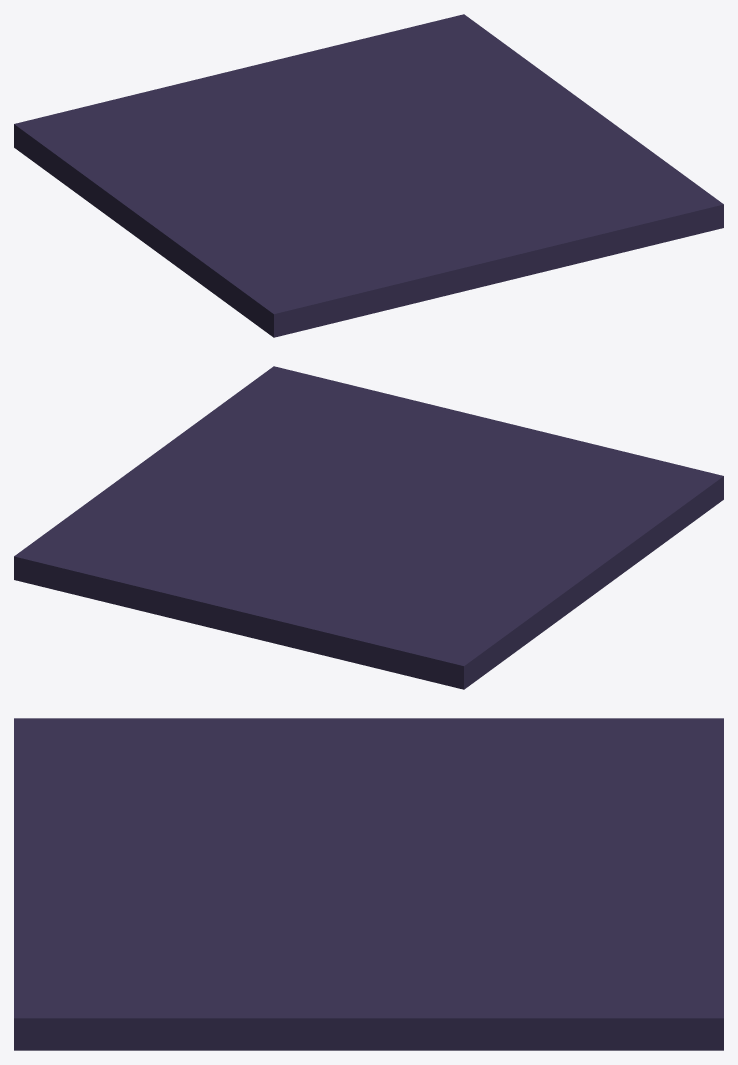
The model's file is Ceiling_Light_Square.fbx.
3 views of the same model, one above another, from view 1: azimuth 30°, elevation 25°; view 2: azimuth 150°, elevation 25°; view 3: azimuth 270°, elevation 25° (orthographic). The views are drawn at different scales.
Visible parts, largest first — view 1: Ceiling_Tile_Light; view 2: Ceiling_Tile_Light; view 3: Ceiling_Tile_Light.
Boxes of the visible parts, x1,y1,x2,y2 form: Ceiling_Tile_Light: (14,14,723,337); Ceiling_Tile_Light: (14,366,723,689); Ceiling_Tile_Light: (14,718,723,1050).
Bounding box in the file's own units: 2 × 0.1236 × 2.
